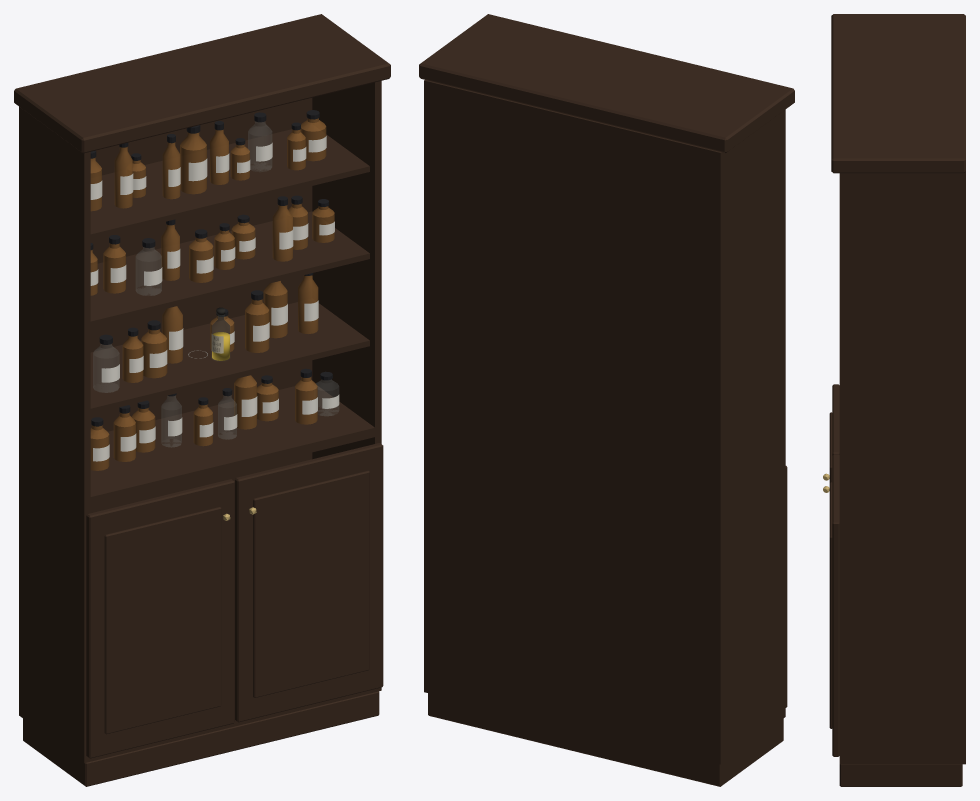
Rendered from cabinet_clue.glb.
3 renders of one model, left to right at view 1: azimuth 30°, elevation 25°; view 2: azimuth 150°, elevation 25°; view 3: azimuth 270°, elevation 25°, orthographic. The views are drawn at different scales.
Parts seen in each view (by area): view 1: 药柜_调色液与错位灰圈; view 2: 药柜_调色液与错位灰圈; view 3: 药柜_调色液与错位灰圈.
Part boxes in pixels (left/top/right/bottom): 药柜_调色液与错位灰圈: left=14, top=14, right=390, bottom=786; 药柜_调色液与错位灰圈: left=419, top=14, right=794, bottom=786; 药柜_调色液与错位灰圈: left=823, top=14, right=965, bottom=786.
Size of the model in its own units: 1.04 by 2.1 by 0.4302.
11 materials, 1 textured.
